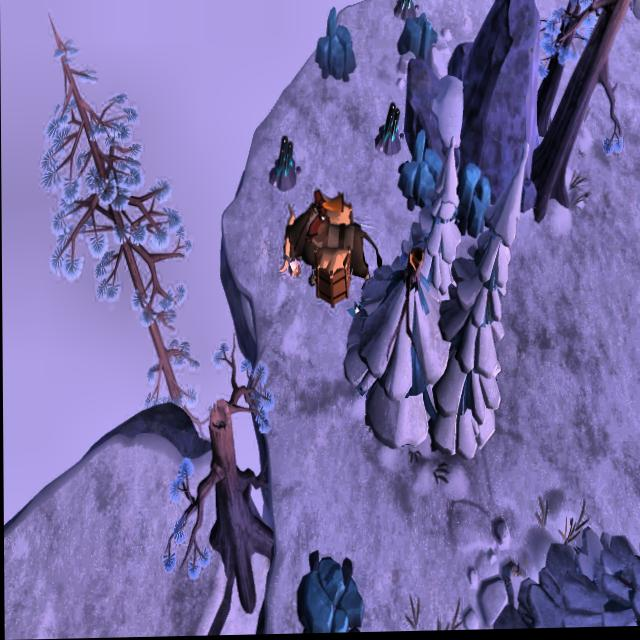ore_t4: (274, 133, 295, 181), (380, 102, 398, 144), (399, 0, 415, 20)
rock_t4: (293, 551, 363, 635), (396, 134, 442, 213), (315, 1, 357, 87), (455, 164, 493, 242), (399, 11, 437, 64)
